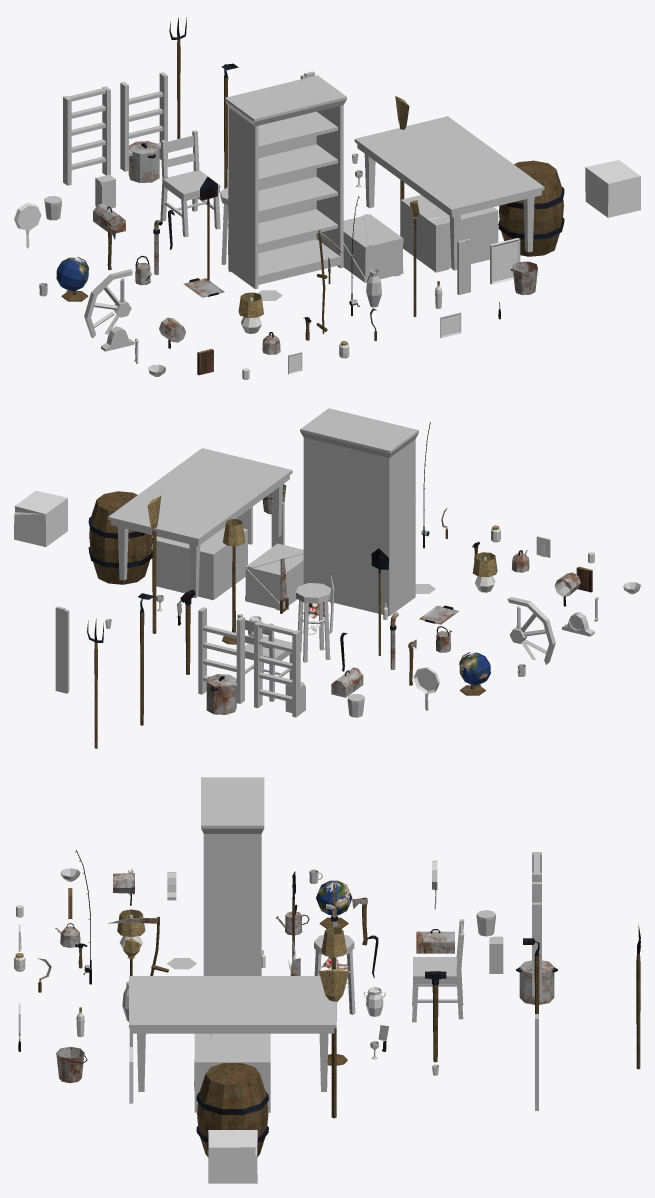
The model's file is Props.fbx.
The picture shows the model from 3 angles, top to bottom: view 1: azimuth 30°, elevation 25°; view 2: azimuth 150°, elevation 25°; view 3: azimuth 270°, elevation 25°; orthographic projection. The views are drawn at different scales.
Visible parts, largest first — view 1: BookShelf, Table, WoodCrate.2, Barrel, WoodCrate.1, Chair, CardboardBox, LadderClimbing_Segment, LadderClimbing_Segment.Top, Wheel, CookingPot.1, PictureFrame.1 (+10 smaller); view 2: BookShelf, Table, WoodCrate.2, Barrel, WoodCrate.1, LadderClimbing_Segment, CardboardBox, LadderClimbing_Segment.Top, Stool, Wheel, WoodPlank, Chair (+12 smaller); view 3: Table, BookShelf, Barrel, WoodCrate.2, CardboardBox, Chair, Broom, Globe, CookingPot.1, LadderClimbing_Segment.Top, Toolbox, Bucket (+5 smaller).
Part boxes in pixels (bbox=[...]): BookShelf: bbox=[225, 75, 346, 289]; Table: bbox=[354, 116, 544, 270]; WoodCrate.2: bbox=[400, 195, 498, 272]; Barrel: bbox=[498, 160, 564, 256]; WoodCrate.1: bbox=[343, 214, 403, 282]; Chair: bbox=[160, 130, 220, 237]; CardboardBox: bbox=[585, 160, 640, 217]; LadderClimbing_Segment: bbox=[63, 86, 110, 185]; LadderClimbing_Segment.Top: bbox=[120, 72, 167, 171]; Wheel: bbox=[84, 269, 132, 337]; CookingPot.1: bbox=[128, 141, 159, 183]; PictureFrame.1: bbox=[490, 238, 520, 284]; BookShelf: bbox=[300, 408, 418, 616]; Table: bbox=[108, 448, 292, 597]; WoodCrate.2: bbox=[156, 527, 247, 600]; Barrel: bbox=[88, 491, 152, 584]; WoodCrate.1: bbox=[245, 543, 303, 610]; LadderClimbing_Segment: bbox=[254, 621, 300, 717]; CardboardBox: bbox=[14, 491, 67, 546]; LadderClimbing_Segment.Top: bbox=[198, 607, 244, 703]; Stool: bbox=[296, 583, 331, 662]; Wheel: bbox=[507, 597, 555, 664]; WoodPlank: bbox=[55, 606, 69, 693]; Chair: bbox=[237, 613, 292, 701]; Table: bbox=[129, 976, 336, 1091]; BookShelf: bbox=[201, 777, 264, 975]; Barrel: bbox=[196, 1063, 268, 1157]; WoodCrate.2: bbox=[194, 1033, 270, 1112]; CardboardBox: bbox=[208, 1130, 257, 1183]; Chair: bbox=[412, 919, 464, 1022]; Broom: bbox=[319, 969, 349, 1118]; Globe: bbox=[316, 880, 352, 928]; CookingPot.1: bbox=[516, 960, 557, 1004]; LadderClimbing_Segment.Top: bbox=[532, 882, 541, 996]; Toolbox: bbox=[416, 929, 454, 953]; Bucket: bbox=[56, 1046, 87, 1083].
Size of the model in its own units: 6.8 by 2.57 by 6.18.
